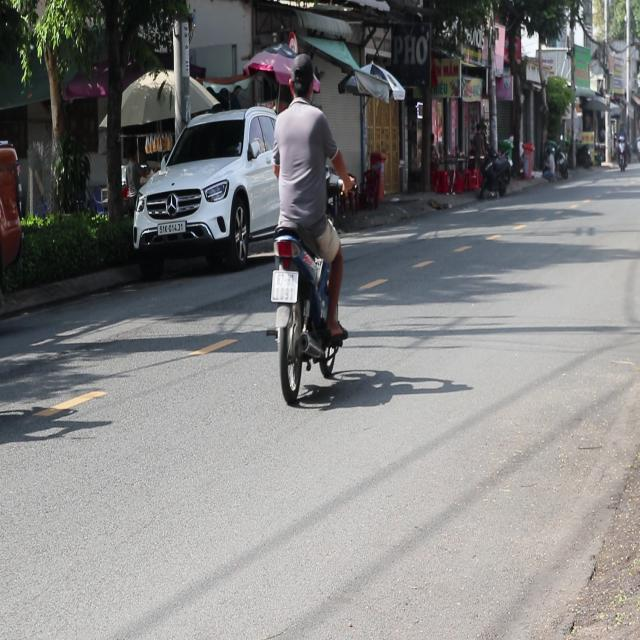licenseplate: (265, 49, 350, 402)
motorcyclist: (288, 51, 316, 103)
nohelmet: (270, 270, 298, 302)
